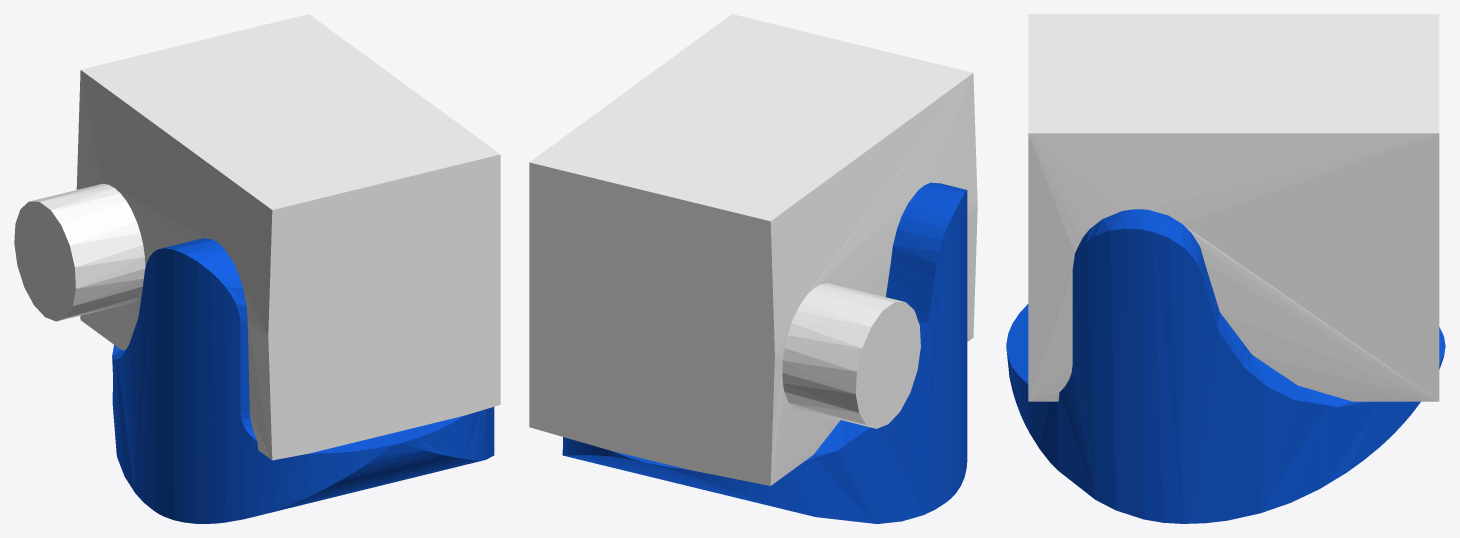
File: R_SHOULDER_R_LINK_mesh.dae
3 renders of one model, left to right at view 1: azimuth 30°, elevation 25°; view 2: azimuth 150°, elevation 25°; view 3: azimuth 270°, elevation 25°, orthographic. The views are drawn at different scales.
Visible parts, largest first — view 1: R_SHOULDER_R_LINK (×2); view 2: R_SHOULDER_R_LINK (×2); view 3: R_SHOULDER_R_LINK (×2).
Boxes of the visible parts, x1,y1,x2,y2 form: R_SHOULDER_R_LINK (×2): [14, 14, 500, 523]; R_SHOULDER_R_LINK (×2): [529, 14, 977, 523]; R_SHOULDER_R_LINK (×2): [1006, 14, 1445, 523].
Size of the model in its own units: 0.0975 by 0.0915 by 0.0994.
